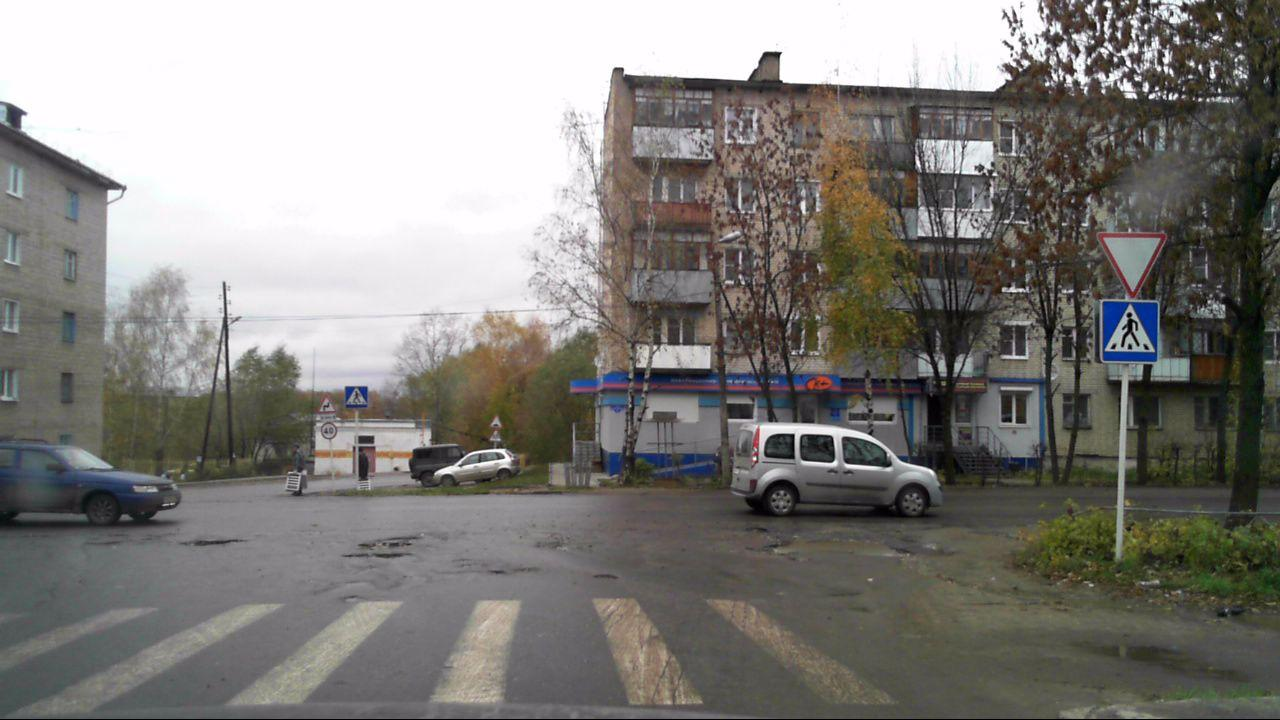1_12_1: (318, 394, 337, 413)
1_17: (487, 414, 503, 429)
1_23: (489, 430, 502, 442)
2_4: (1096, 231, 1167, 299)
3_24: (320, 421, 338, 440)
5_19_1: (1095, 299, 1163, 365), (344, 385, 369, 409)
8_2_1: (319, 414, 337, 420)
